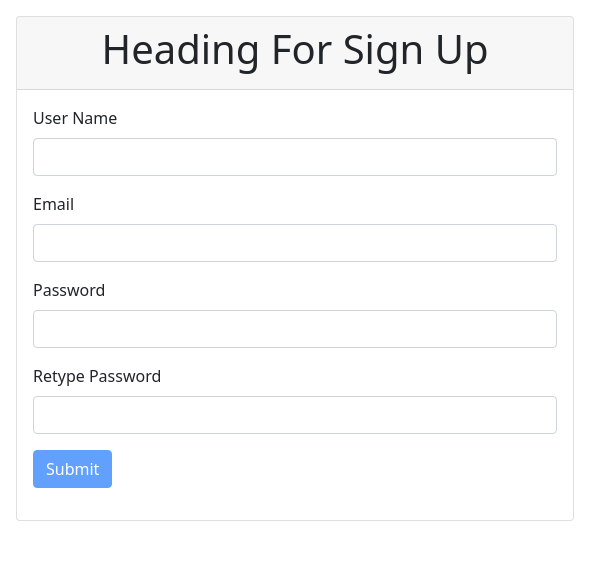
Test: sign up page › interaction › display username cannot be null for username
The width and height of the screenshot is (591, 563).
Step 1. Type "mostafa" into the field labelled "User Name" → [295, 157], box [33,138,557,176]
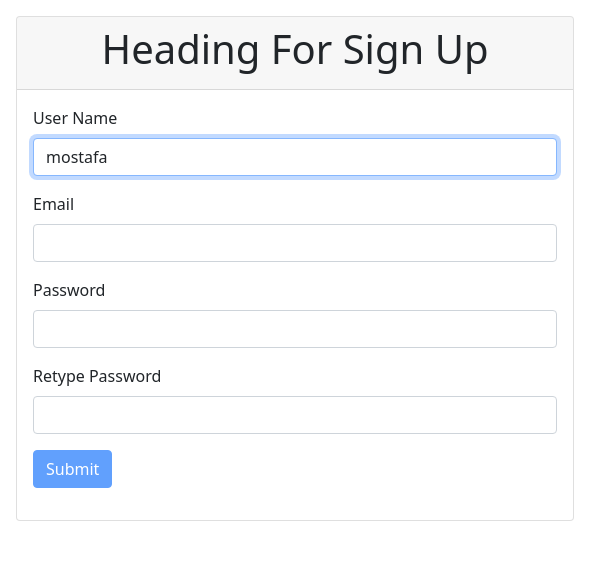
Step 2. Type "mostafa@hotmail.com" into the field labelled "Email" → [295, 243], box [33,224,557,262]
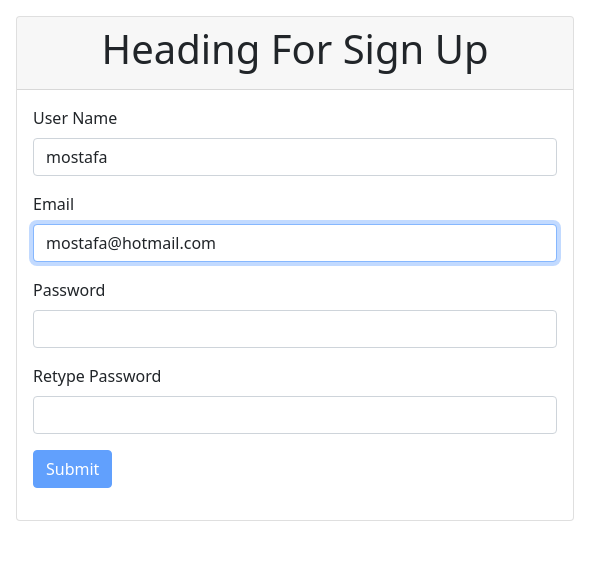
Step 3. Type "passw8rd" into the password field labelled "Password" → [295, 329], box [33,310,557,348]
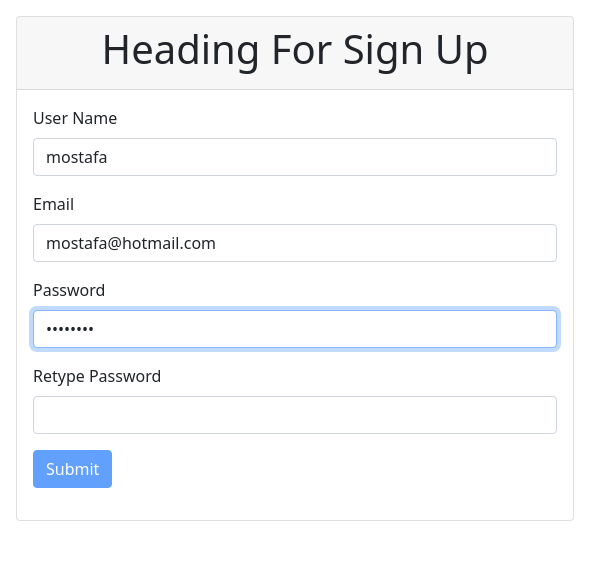
Step 4. Type "passw8rd" into the password field labelled "Retype Password" → [295, 415], box [33,396,557,434]
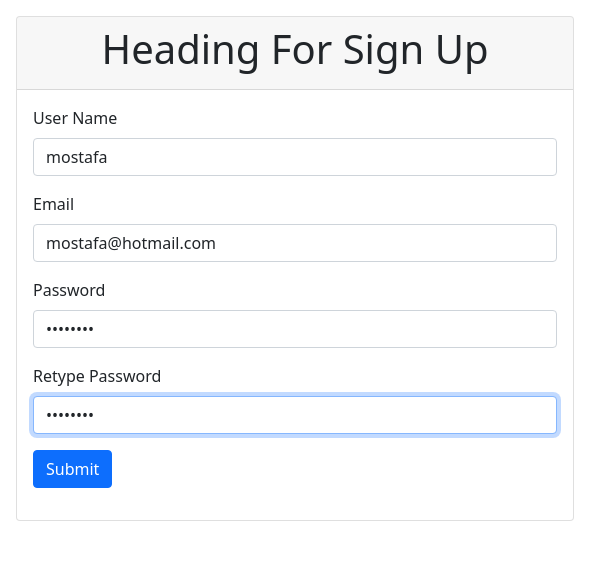
Step 5. Click the button "Submit" → [73, 469], box [33,450,112,488]
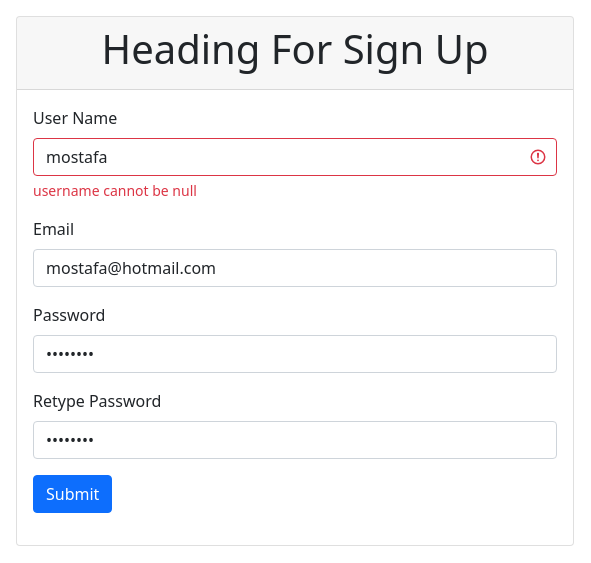
Expected: the text "username cannot be null" is shown, [33,181,197,200]
